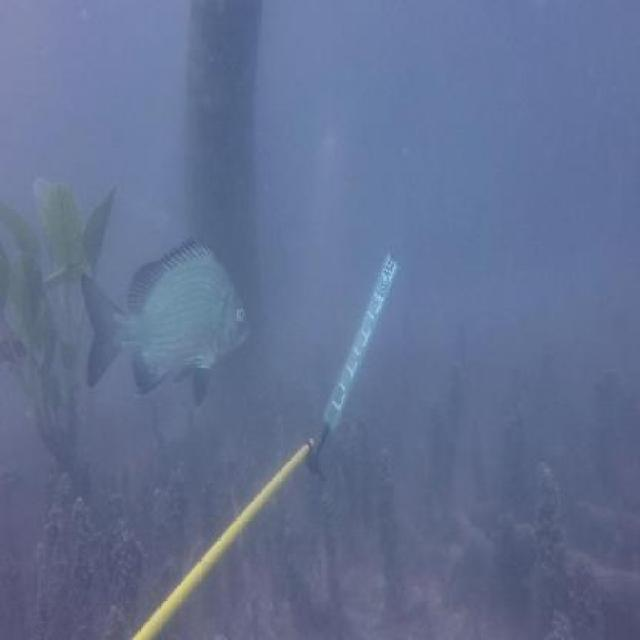acanthopagrus_palmaris: (76, 232, 252, 411)
